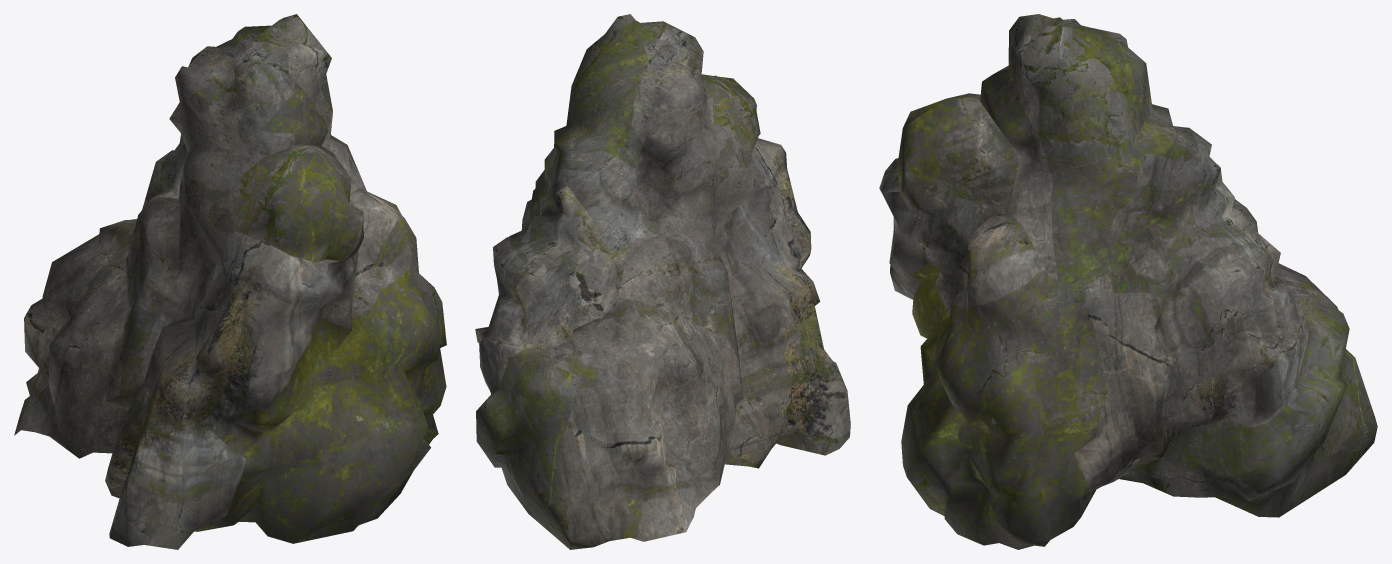
File: Rock16.fbx
3 renders of one model, left to right at view 1: azimuth 30°, elevation 25°; view 2: azimuth 150°, elevation 25°; view 3: azimuth 270°, elevation 25°, orthographic. The views are drawn at different scales.
Visible parts, largest first — view 1: LV_GrassLand_Rock_NForestArea02_SM_LHJ; view 2: LV_GrassLand_Rock_NForestArea02_SM_LHJ; view 3: LV_GrassLand_Rock_NForestArea02_SM_LHJ.
Boxes of the visible parts, <box> form: LV_GrassLand_Rock_NForestArea02_SM_LHJ: <box>14,14,446,549</box>; LV_GrassLand_Rock_NForestArea02_SM_LHJ: <box>475,14,850,549</box>; LV_GrassLand_Rock_NForestArea02_SM_LHJ: <box>879,14,1377,549</box>.
Size of the model in its own units: 4.57 by 6.06 by 5.54.
1 material, 1 textured.
